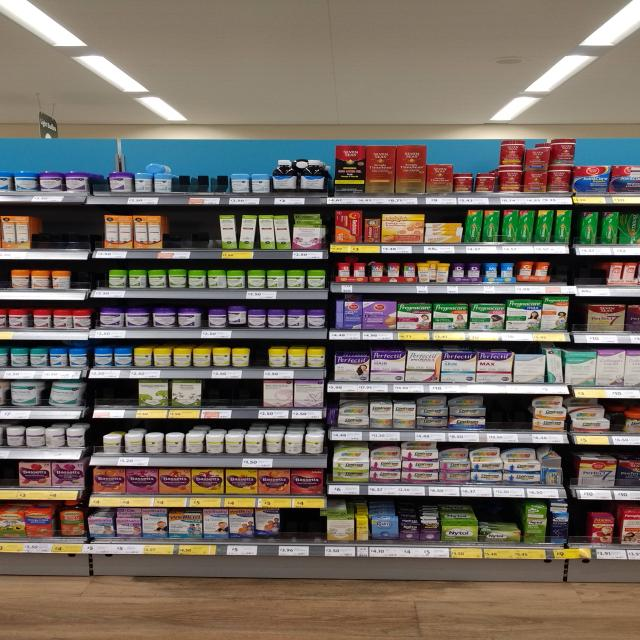unorganised: (222, 214, 256, 251), (43, 382, 86, 410), (568, 398, 605, 419), (227, 307, 248, 329), (449, 396, 483, 408), (51, 270, 71, 290), (143, 159, 167, 174), (288, 350, 306, 369), (419, 396, 446, 407), (535, 397, 562, 408)
